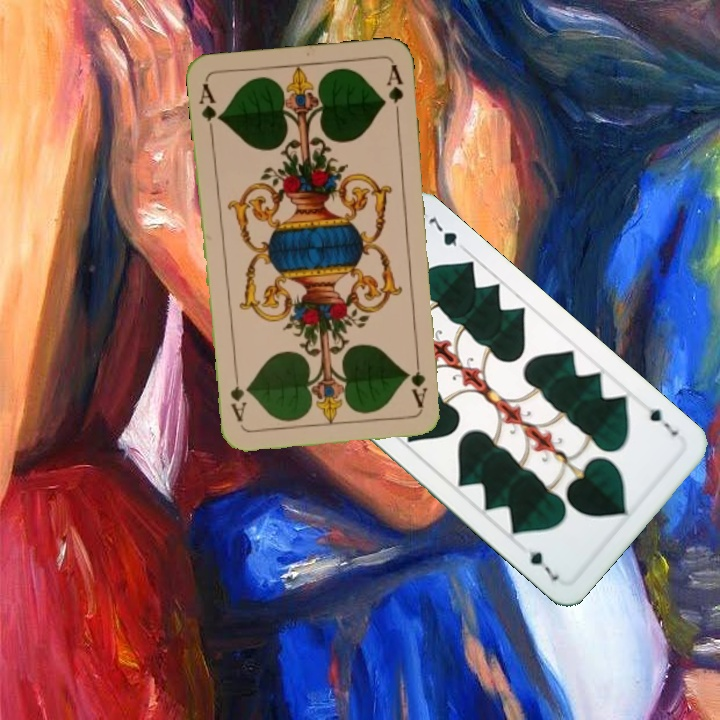G7: (645, 404, 681, 439)
GA: (195, 79, 224, 138), (407, 351, 430, 410)
